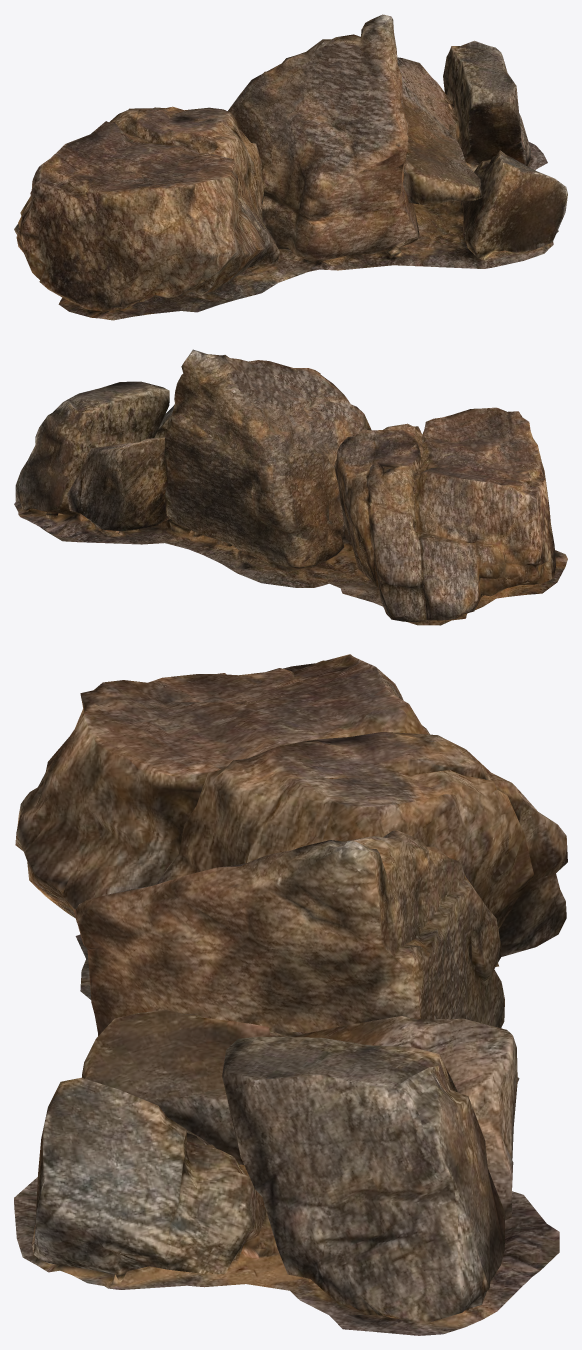
File: boulder.glb
3 views of the same model, one above another, from view 1: azimuth 30°, elevation 25°; view 2: azimuth 150°, elevation 25°; view 3: azimuth 270°, elevation 25° (orthographic). The views are drawn at different scales.
Parts seen in each view (by area): view 1: boulder_02; view 2: boulder_02; view 3: boulder_02.
Part boxes in pixels (left/top/right/bottom): boulder_02: left=14, top=14, right=567, bottom=320; boulder_02: left=14, top=349, right=567, bottom=625; boulder_02: left=14, top=654, right=567, bottom=1335.
Size of the model in its own units: 2.59 by 0.904 by 1.26.
Materials: 1 (1 with a texture image).
